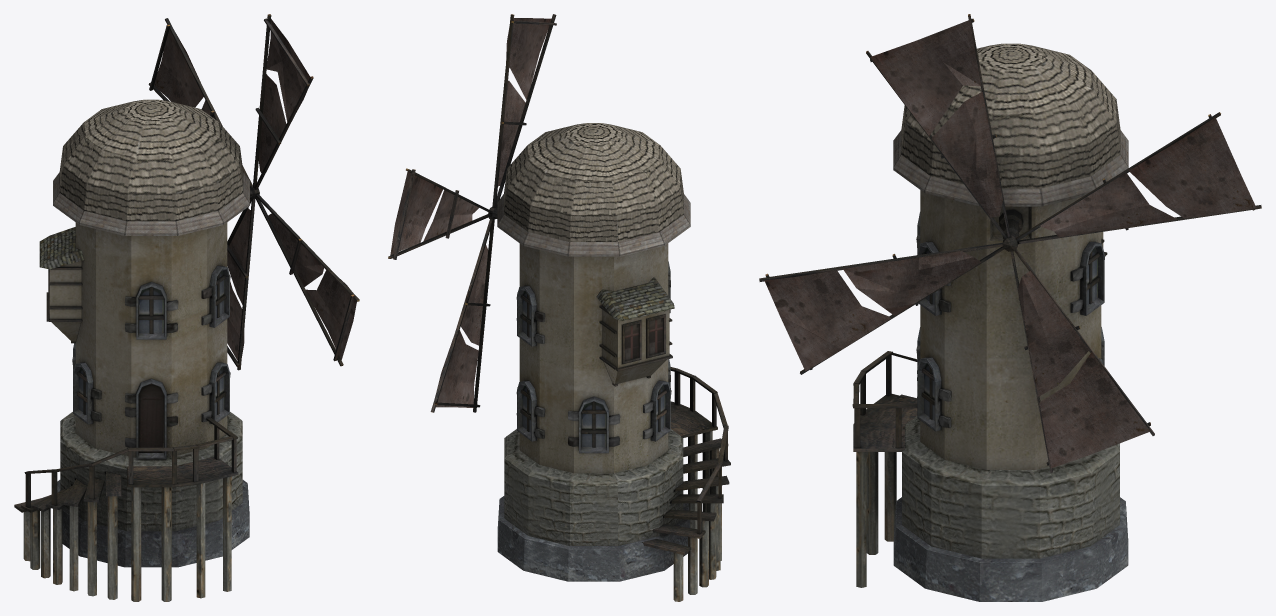
The model's file is WindMill.glb.
The picture shows the model from 3 angles, left to right: view 1: azimuth 30°, elevation 25°; view 2: azimuth 150°, elevation 25°; view 3: azimuth 270°, elevation 25°; orthographic projection. The views are drawn at different scales.
Visible parts, largest first — view 1: mill.001, mill; view 2: mill.001, mill; view 3: mill.001, mill.
Boxes of the visible parts, box(x1,y1,x2,y2) form: mill.001: box(14, 99, 249, 601); mill: box(148, 14, 359, 370); mill.001: box(497, 123, 730, 601); mill: box(388, 14, 556, 412); mill.001: box(852, 43, 1128, 601); mill: box(759, 14, 1261, 472).
Bounding box in the file's own units: 11.17 × 24.2 × 17.72.
Materials: 2 (2 with a texture image).
